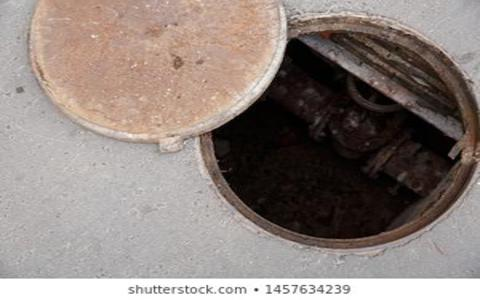open manhole: (202, 9, 478, 262)
